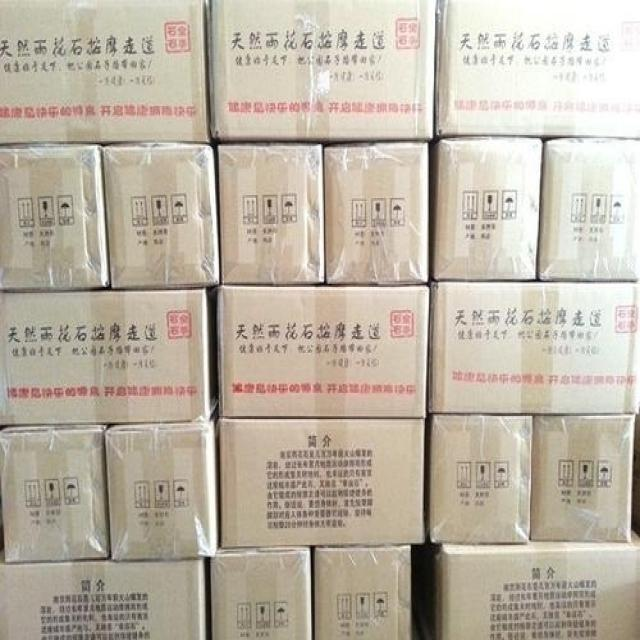box: (205, 0, 436, 143), (0, 285, 218, 425), (426, 276, 639, 416), (218, 284, 429, 417), (434, 2, 640, 138), (218, 416, 425, 546), (411, 528, 640, 640), (0, 549, 206, 640), (105, 404, 219, 560), (101, 143, 220, 290), (429, 137, 544, 281), (0, 143, 111, 292), (216, 141, 325, 287), (321, 141, 429, 285), (0, 424, 110, 563), (538, 138, 640, 281), (426, 413, 532, 543), (530, 416, 635, 542), (311, 545, 411, 640), (211, 546, 311, 640)
